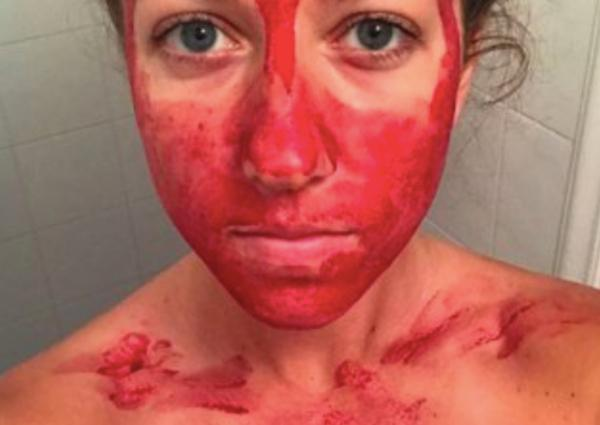Fire: (124, 0, 475, 330), (279, 274, 600, 425), (93, 333, 272, 424)
